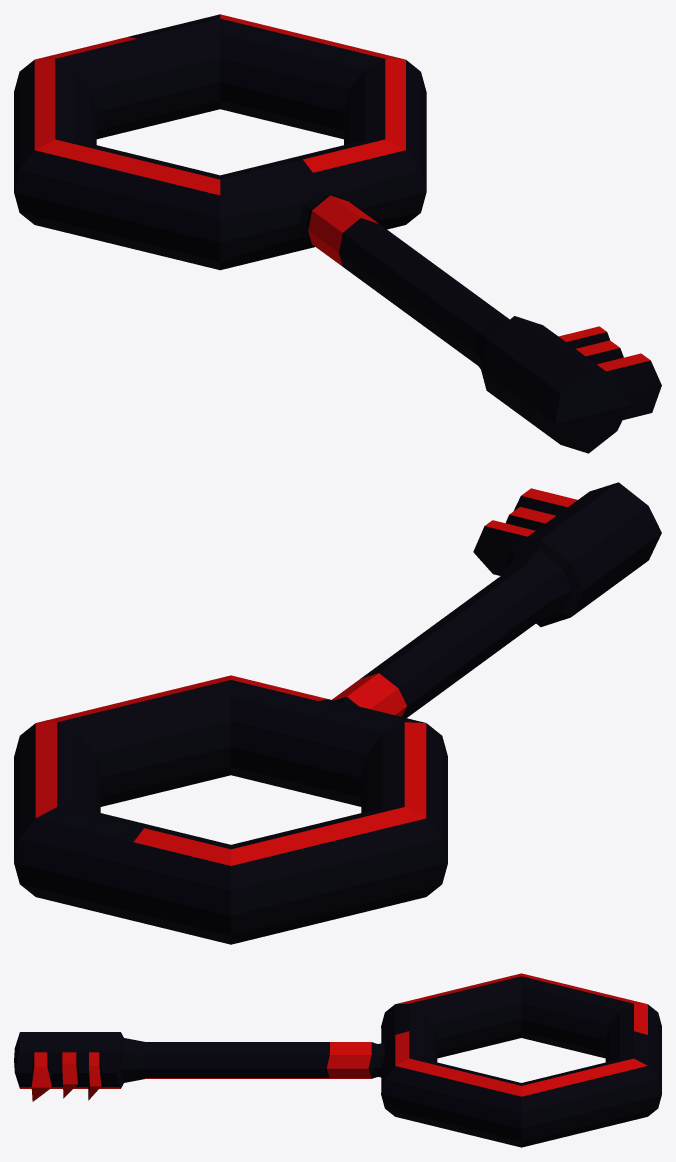
The model's file is key.obj.
3 views of the same model, one above another, from view 1: azimuth 30°, elevation 25°; view 2: azimuth 150°, elevation 25°; view 3: azimuth 270°, elevation 25° (orthographic). The views are drawn at different scales.
Visible parts, largest first — view 1: Torus; view 2: Torus; view 3: Torus.
Part boxes in pixels (x1,y1,x2,y2): Torus: (14, 14, 661, 453); Torus: (14, 482, 661, 944); Torus: (14, 973, 661, 1147).
Size of the model in its own units: 2.5 by 0.5 by 4.99.
